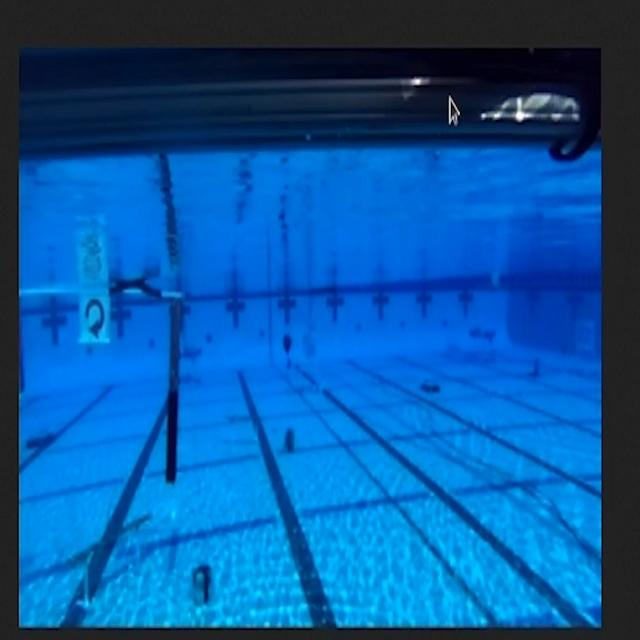Gate: (19, 278, 187, 504)
